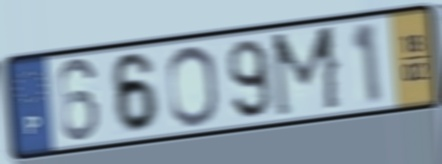1: (350, 20, 384, 109)
6: (108, 49, 163, 138), (56, 56, 102, 146)
9: (225, 37, 275, 120)
M: (268, 22, 344, 121)
O: (164, 43, 222, 129)
